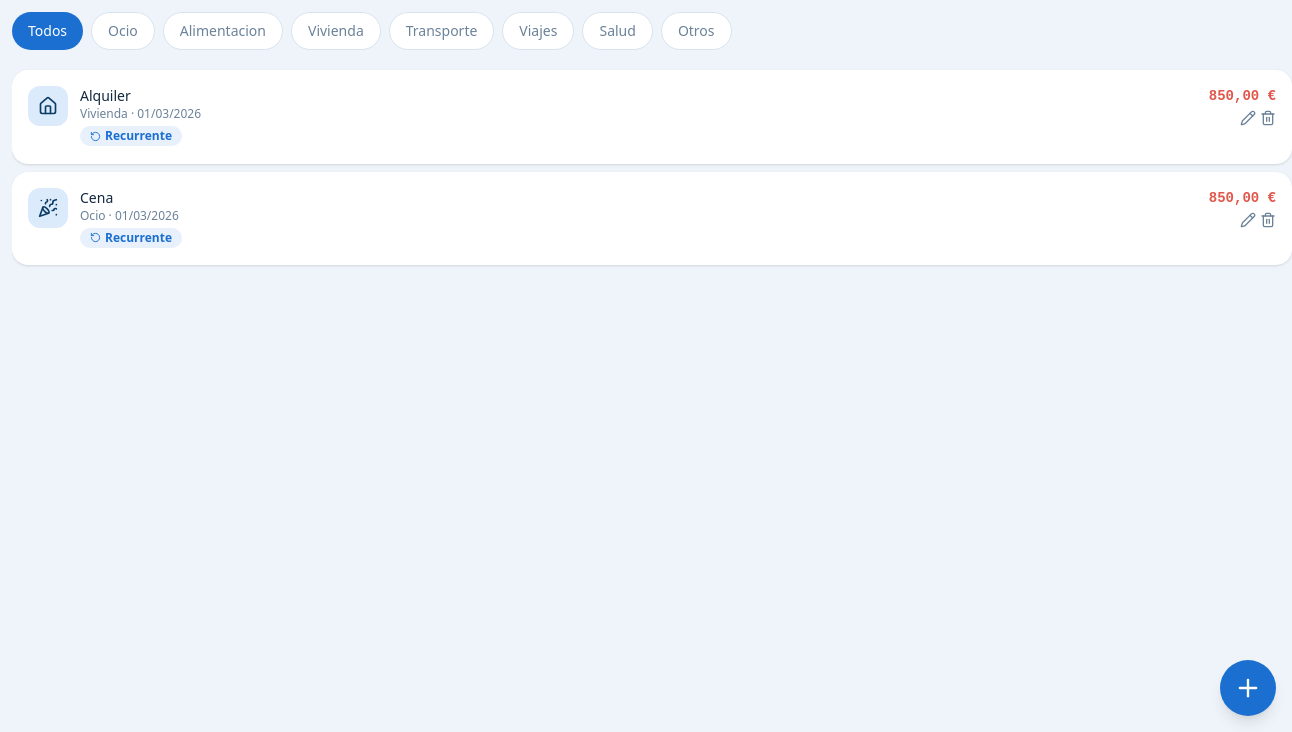
Test case: GastosList › comportamiento común a las dos áreas › filtra por categoría con los mismos chips
This screenshot has width=1292, height=732.
Check: the text "Alquiler" is shown, box 80,86 -> 131,105
Check: the text "Cena" is shown, box 80,188 -> 113,206
Click the button "Ocio" at coordinates (123, 31), box 91,12 -> 155,50
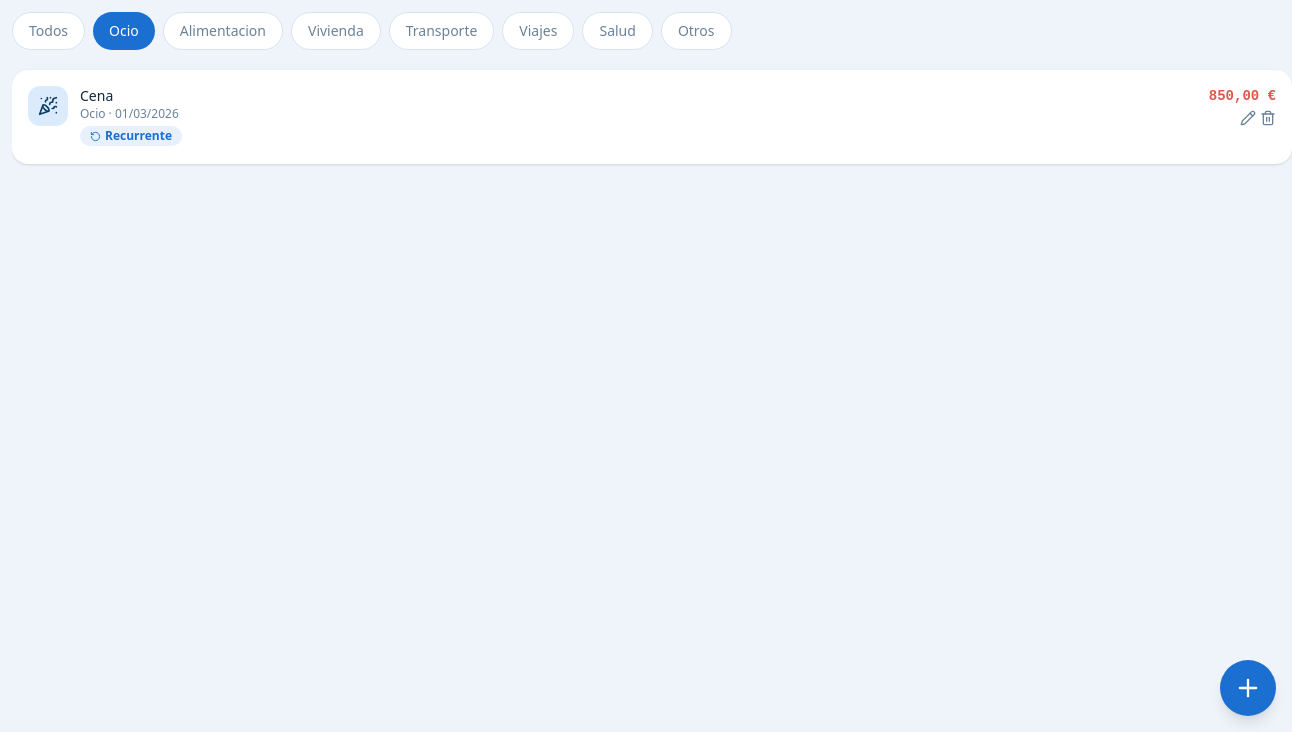
Check: the text "Cena" is shown, box 80,86 -> 113,105
Check: the text "Alquiler" is gone
